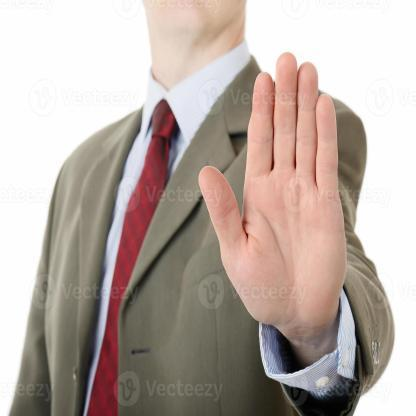stop: (196, 49, 356, 338)
